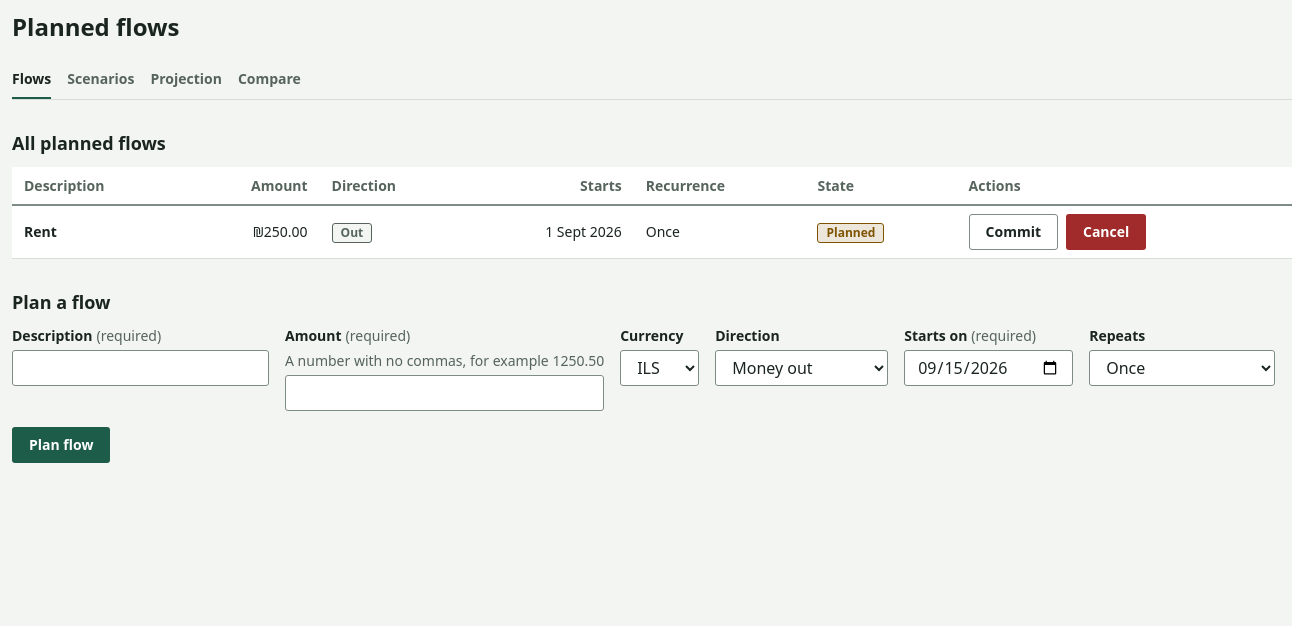
PlannedFlowsPage list heading › Given_a_lifecycle_action_opened_When_its_panel_renders_Then_its_title_is_an_h3_inside_the_list_section
Expected: the table named "Planned flows" is shown, x1=12 y1=166 x2=1291 y2=258
Click the button with aria-label "Commit Rent, starting 1 Sept 2026": (1013, 232) x1=969 y1=214 x2=1058 y2=250
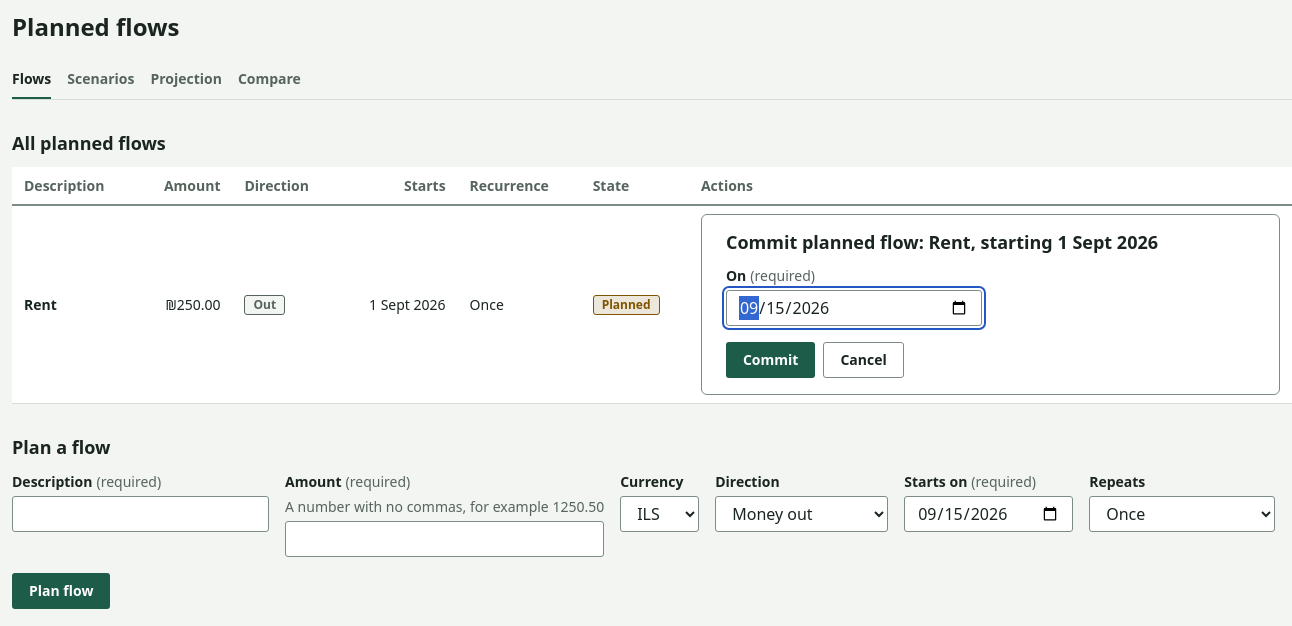
Expected: the heading "Commit planned flow: Rent, starting 1 Sept 2026" is shown, x1=726 y1=230 x2=1158 y2=254
